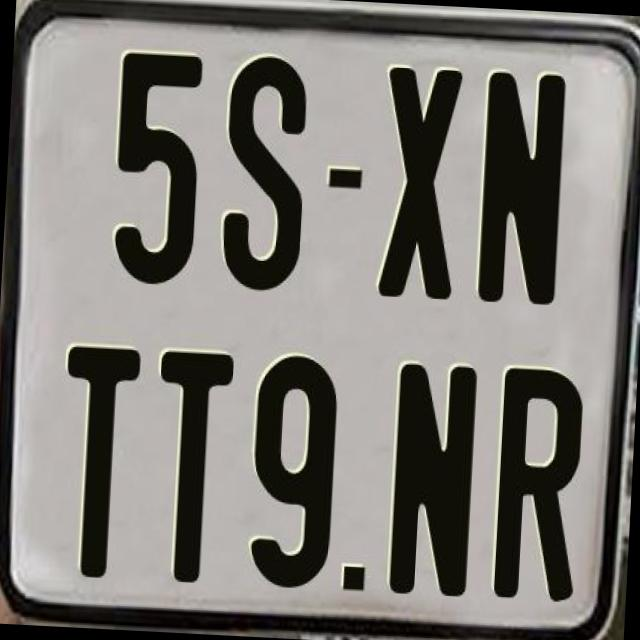5: (110, 50, 210, 285)
9: (247, 353, 346, 594)
N: (386, 361, 481, 597), (478, 66, 570, 307)
R: (493, 367, 587, 606)
S: (217, 52, 314, 302)
T: (56, 342, 148, 586), (147, 350, 238, 586)
X: (376, 63, 468, 304)
